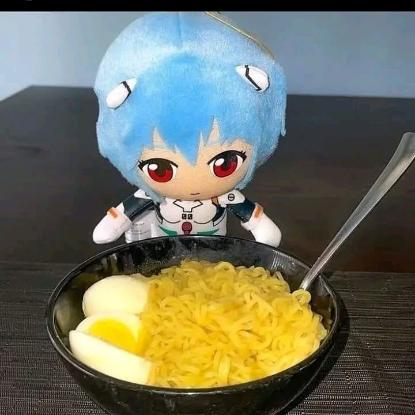rei-plush: (80, 10, 285, 261)
